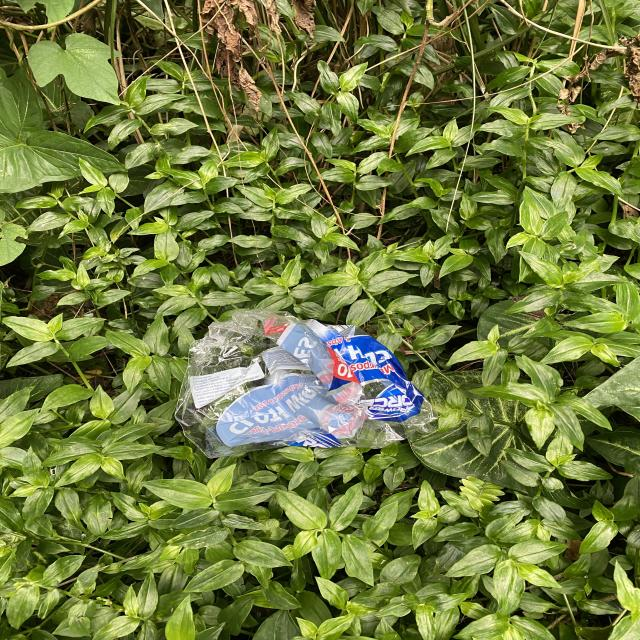wrappers: (174, 312, 435, 458)
